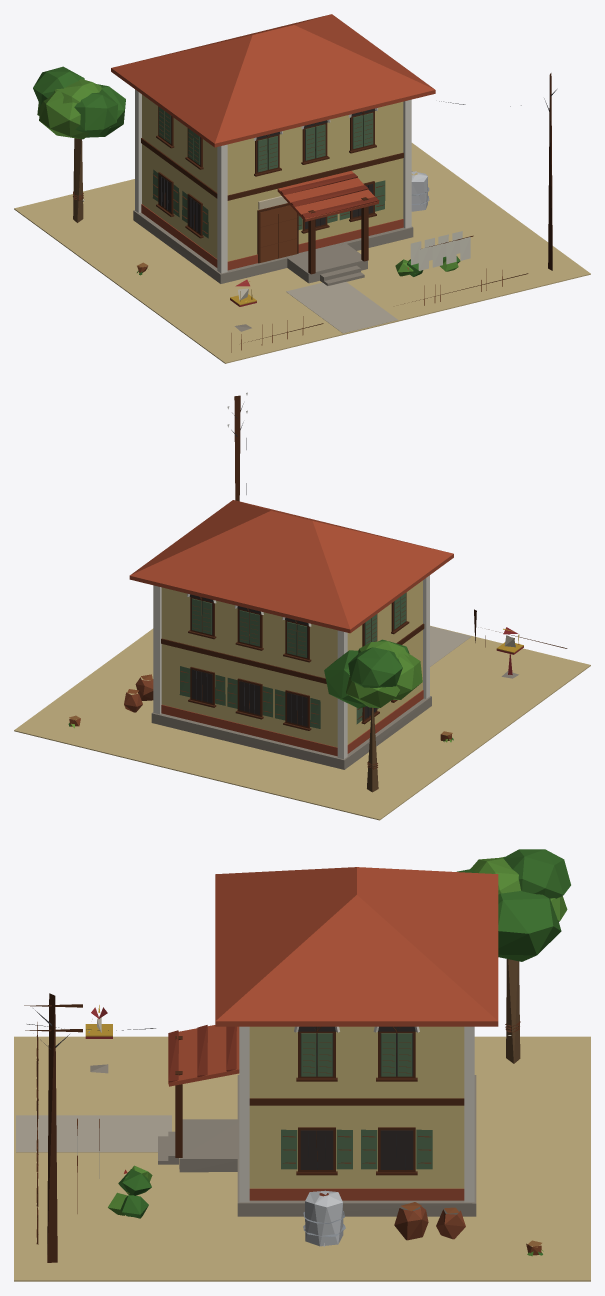
The model's file is home_2.glb.
3 renders of one model, top to bottom at view 1: azimuth 30°, elevation 25°; view 2: azimuth 150°, elevation 25°; view 3: azimuth 270°, elevation 25°, orthographic. The views are drawn at different scales.
Visible parts, largest first — view 1: body, windows; view 2: body, windows; view 3: body, windows.
Boxes of the visible parts, x1,y1,x2,y2 form: body: [14, 14, 590, 363]; windows: [159, 108, 375, 233]; body: [14, 392, 590, 820]; windows: [190, 594, 394, 726]; body: [14, 849, 590, 1281]; windows: [298, 1026, 415, 1169].
Size of the model in its own units: 16.06 by 8.55 by 15.9.
